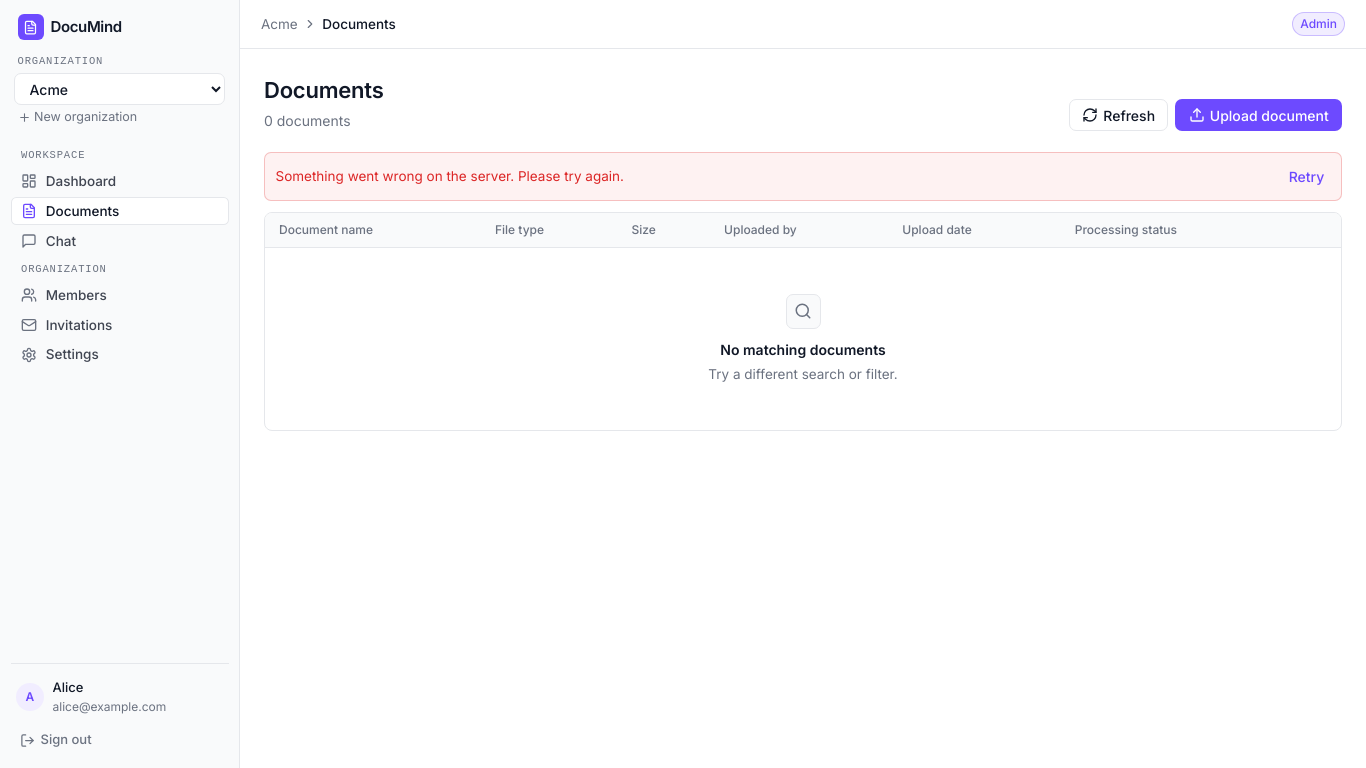
Test: Documents page › shows a retryable error when the list fails to load
Expected: the message shows "Something went wrong on the server", [276,168,624,184]
Expected: the message does not show "stack trace", [264,152,1342,201]
Click the button "Retry".
click(1306, 176)  # box [1282,162,1330,192]
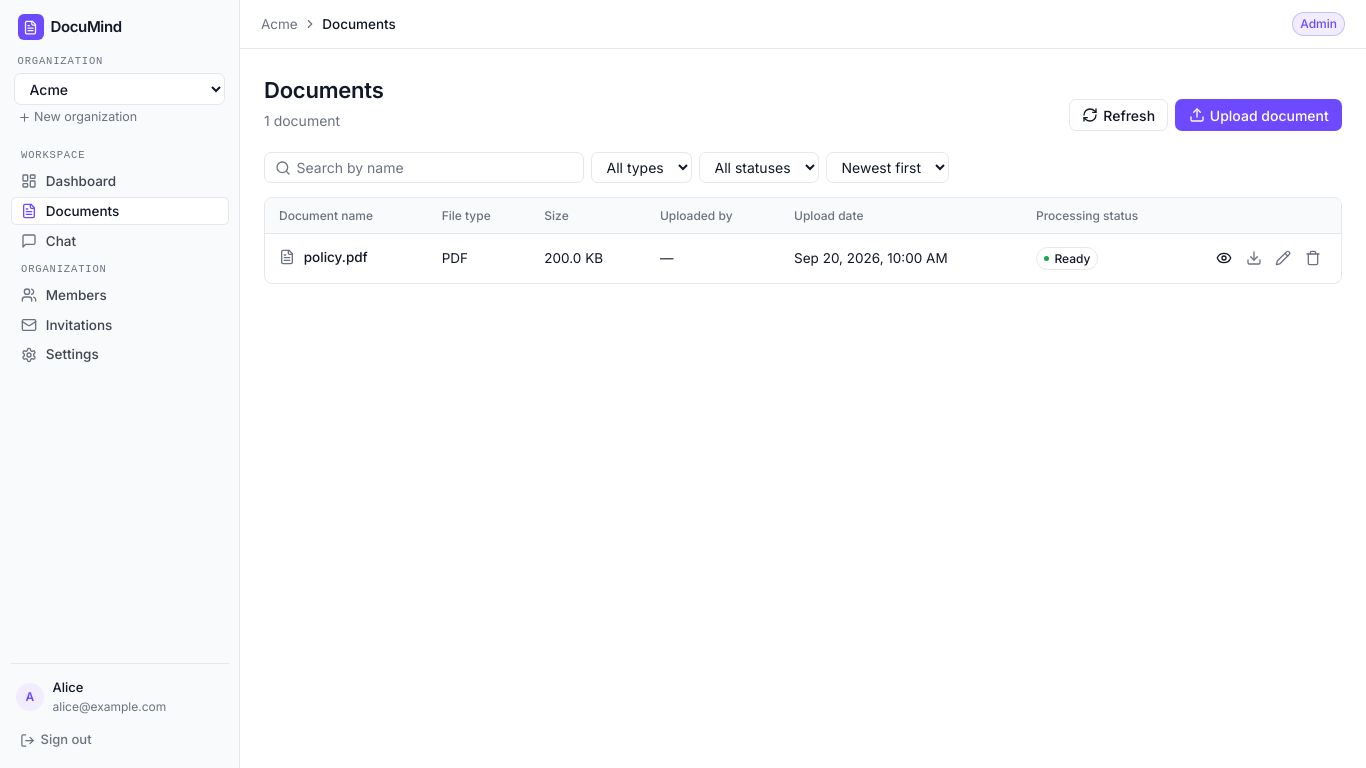
Now the text "policy.pdf" is shown, box [304,247,368,267]
